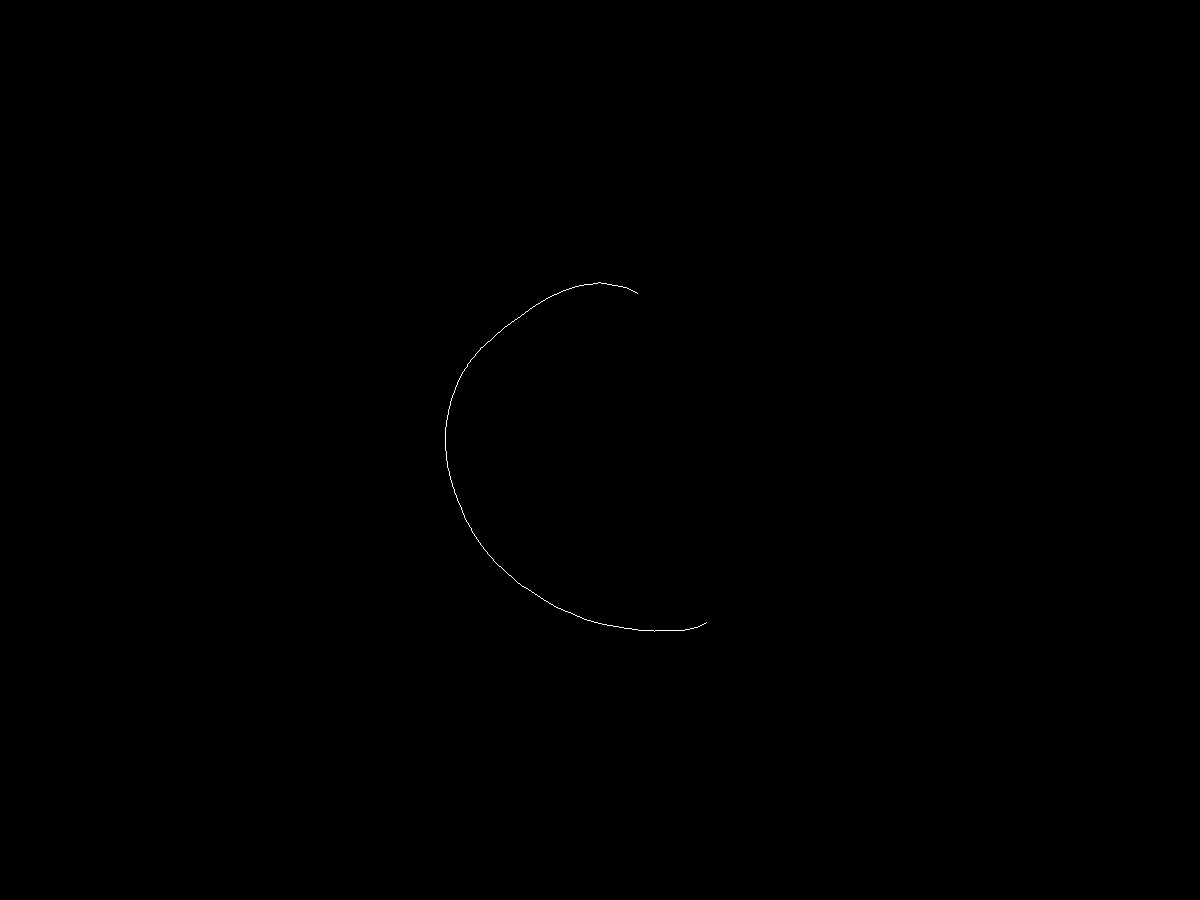dian1: (624, 282, 644, 303)
dian2: (697, 606, 722, 632)
